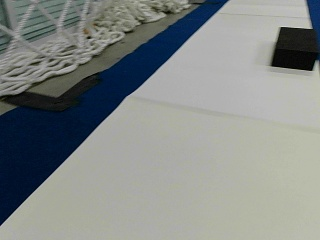block: (271, 26, 317, 70)
